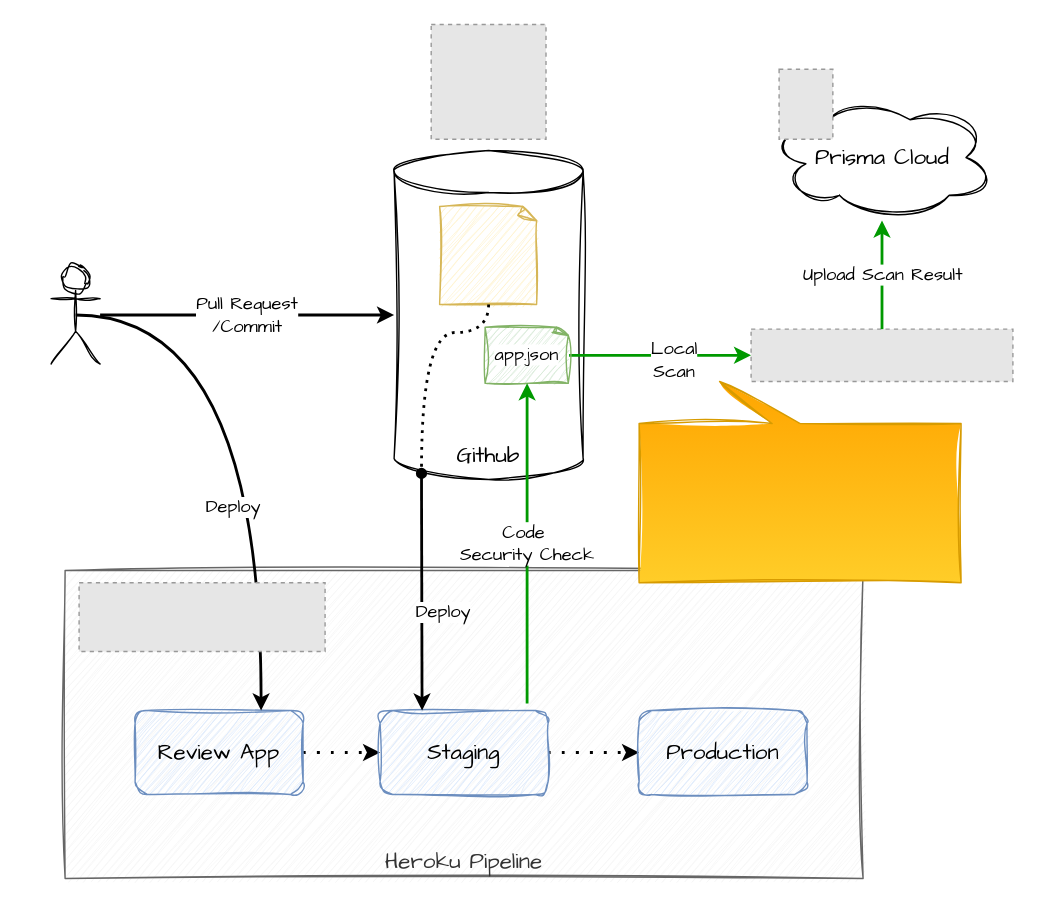
The diagram is 1037 pixels wide and 903 high, and some of its shapes have lost their labels. Grey dashed boxes stand in for pictures. The shapes that lost their labels are listed below. From the top down, each one's box as (x1, y1, x2, y2) in pixels, then its label:
(438, 205, 538, 304): Application Codes
(50, 265, 100, 364): Developer
(638, 380, 961, 583): Embedded Secret Vulnerabilities SAST* OSS License Issue IaC Best Practices
